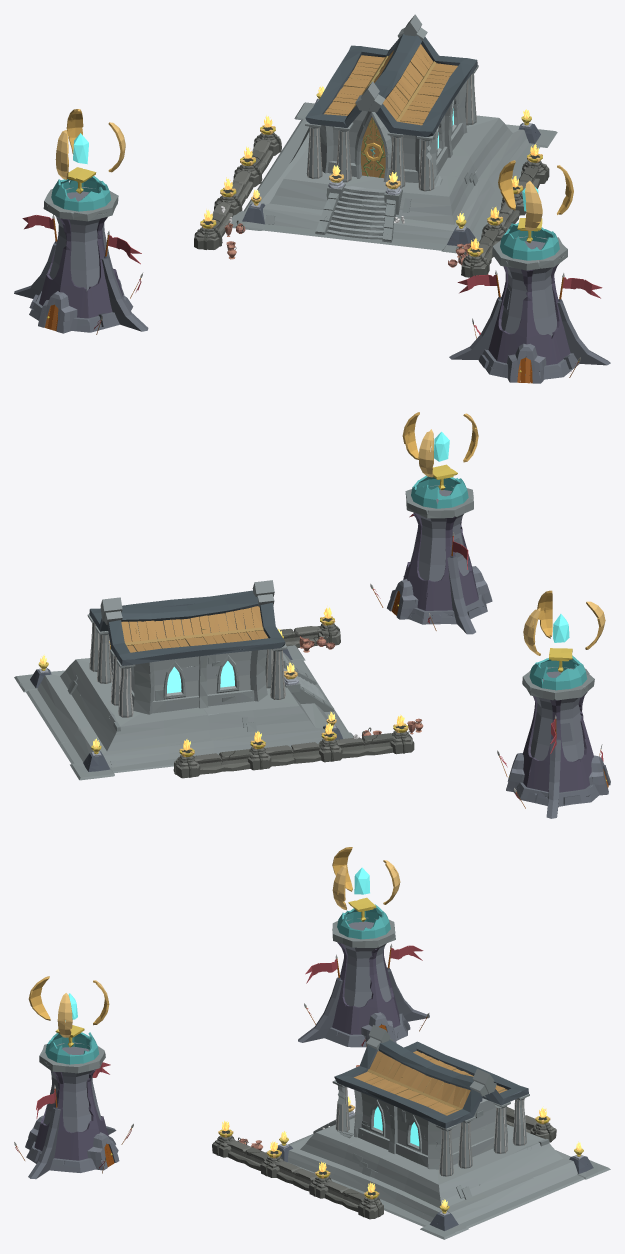
File: zeuz_mausoleum.glb
The picture shows the model from 3 angles, top to bottom: view 1: azimuth 30°, elevation 25°; view 2: azimuth 150°, elevation 25°; view 3: azimuth 270°, elevation 25°; orthographic projection. The views are drawn at different scales.
Parts seen in each view (by area): view 1: Mausoleum_Zeus, ZeusTower, ZeusTower.001, CenterWLamp_WallBlocks.005, CenterWLamp_WallBlocks.012, CenterWLamp_WallBlocks.009, CenterWLamp_WallBlocks.007, CenterWLamp_WallBlocks.008; view 2: Mausoleum_Zeus, ZeusTower.001, ZeusTower, CenterWLamp_WallBlocks.008, CenterWLamp_WallBlocks.006, CenterWLamp_WallBlocks.005, CenterWLamp_WallBlocks.007, CenterW01_WallBlocks.004, CenterW01_WallBlocks.002, CenterW02_WallBlocks.008, CenterWLamp_WallBlocks.012; view 3: Mausoleum_Zeus, ZeusTower.001, ZeusTower, CenterWLamp_WallBlocks.009.
Boxes of the visible parts, x1=… form: Mausoleum_Zeus: x1=228, y1=14, x2=557, y2=253; ZeusTower: x1=449, y1=160, x2=610, y2=383; ZeusTower.001: x1=14, y1=109, x2=148, y2=334; CenterWLamp_WallBlocks.005: x1=194, y1=209, x2=222, y2=249; CenterWLamp_WallBlocks.012: x1=461, y1=238, x2=489, y2=277; CenterWLamp_WallBlocks.009: x1=521, y1=143, x2=549, y2=183; CenterWLamp_WallBlocks.007: x1=233, y1=146, x2=262, y2=187; CenterWLamp_WallBlocks.008: x1=253, y1=115, x2=281, y2=156; Mausoleum_Zeus: x1=14, y1=580, x2=353, y2=780; ZeusTower.001: x1=497, y1=590, x2=610, y2=818; ZeusTower: x1=370, y1=412, x2=492, y2=634; CenterWLamp_WallBlocks.008: x1=173, y1=739, x2=200, y2=778; CenterWLamp_WallBlocks.006: x1=318, y1=723, x2=342, y2=762; CenterWLamp_WallBlocks.005: x1=390, y1=714, x2=414, y2=754; CenterWLamp_WallBlocks.007: x1=247, y1=731, x2=271, y2=770; CenterW01_WallBlocks.004: x1=219, y1=749, x2=252, y2=771; CenterW01_WallBlocks.002: x1=361, y1=733, x2=395, y2=755; CenterW02_WallBlocks.008: x1=291, y1=742, x2=321, y2=763; CenterWLamp_WallBlocks.012: x1=318, y1=606, x2=340, y2=645; Mausoleum_Zeus: x1=265, y1=1025, x2=610, y2=1239; ZeusTower.001: x1=298, y1=847, x2=429, y2=1047; ZeusTower: x1=14, y1=976, x2=133, y2=1179; CenterWLamp_WallBlocks.009: x1=357, y1=1182, x2=383, y2=1219.
Size of what is drawn, in the model's own units: 59.71 by 19.41 by 60.54.
1 material, 1 textured.
